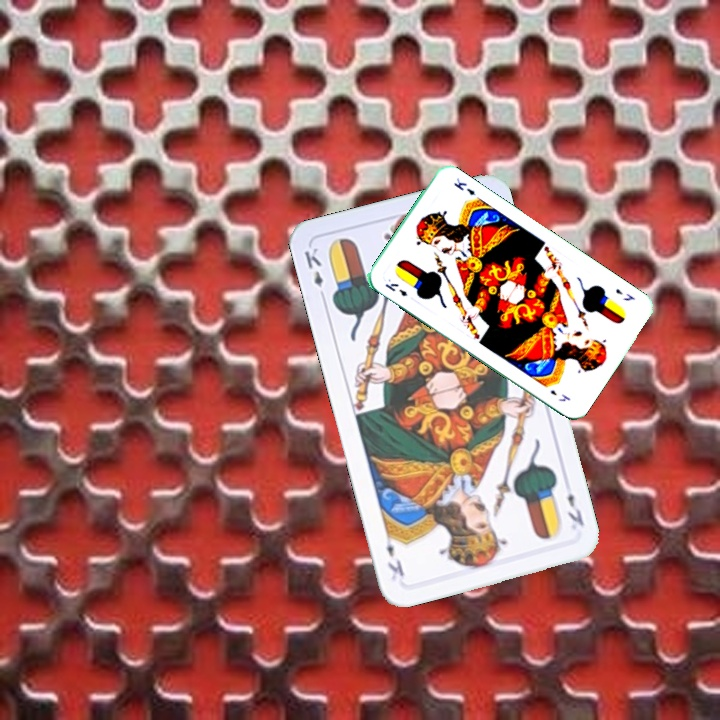EK: (300, 243, 329, 303), (563, 489, 587, 529), (381, 279, 410, 299), (611, 284, 637, 304)
